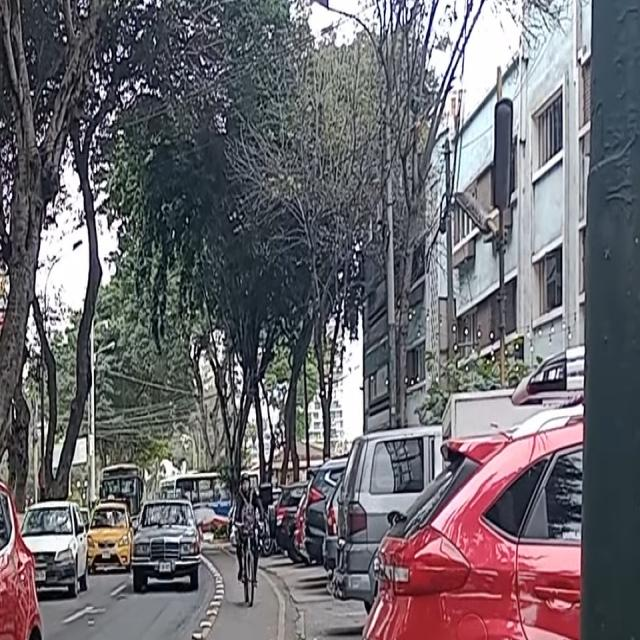bicycle: (233, 518, 265, 607)
car: (0, 451, 42, 640), (19, 501, 88, 594), (132, 498, 200, 589), (88, 498, 134, 575)
